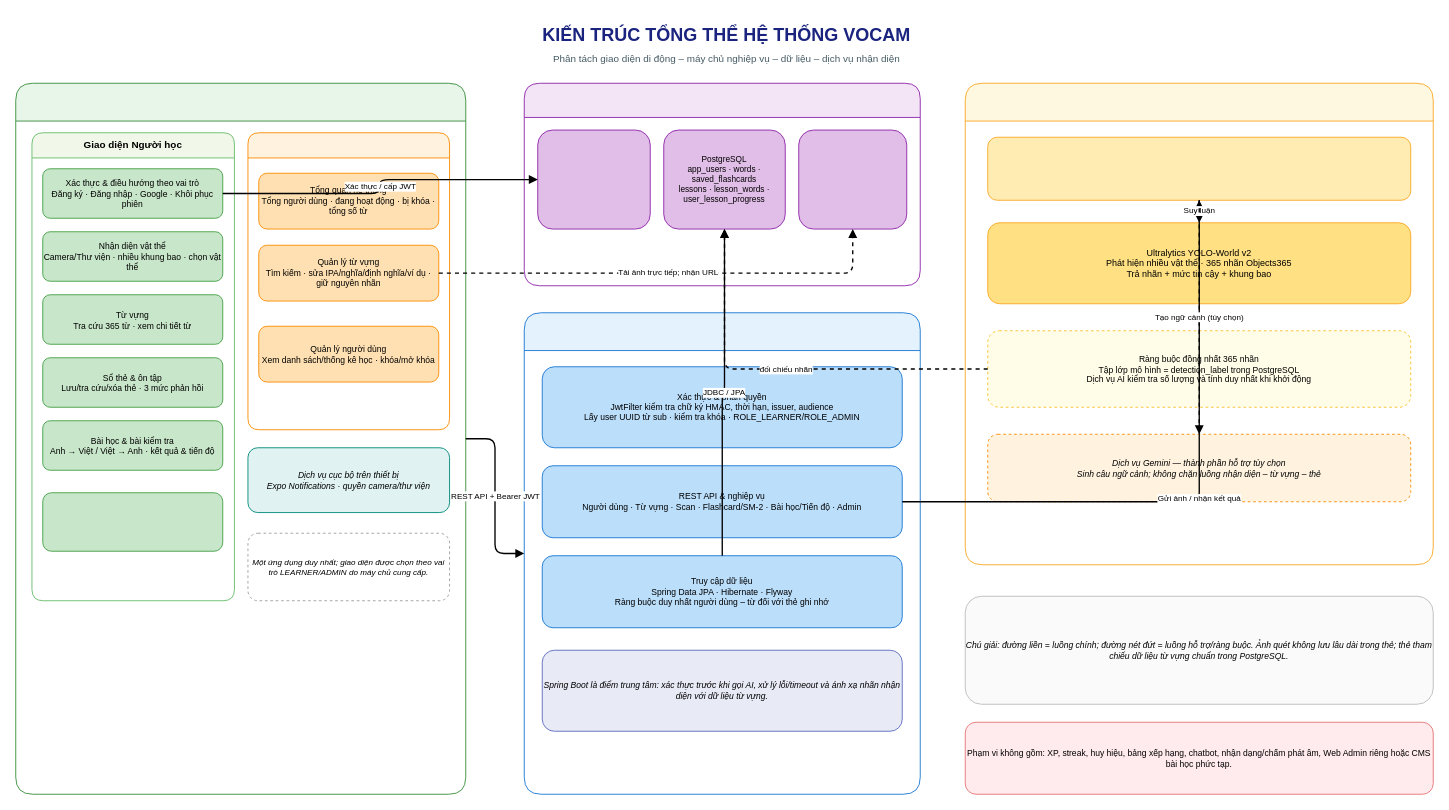
This 1449x810 diagram has some shape labels left out. Each missing label, with the box of its shape:
DỊCH VỤ NHẬN DIỆN: (964, 82, 1433, 565)
FastAPI (Python) POST /predict-multi · kiểm tra ảnh · chuẩn hóa kết quả: (987, 136, 1411, 200)
Giao diện Quản trị viên: (247, 132, 450, 430)
Hồ sơ & nhắc ôn wordsSaved · wordsLearned · dueCards · thông báo cục bộ: (42, 492, 223, 551)
MÁY CHỦ NGHIỆP VỤ SPRING BOOT Java 17 · Spring Boot 3.3.4: (523, 312, 920, 794)
NỀN TẢNG SUPABASE: (523, 82, 920, 286)
Supabase Auth Email/Mật khẩu · Google OAuth · Reset mật khẩu · cấp JWT: (537, 129, 650, 229)
Supabase Storage Ảnh minh họa từ vựng Quản trị viên tải ảnh; CSDL lưu đường dẫn: (798, 129, 907, 229)
ỨNG DỤNG DI ĐỘNG React Native 0.86.2 · Expo SDK 57 · TypeScript 6.0.3: (15, 82, 466, 794)
